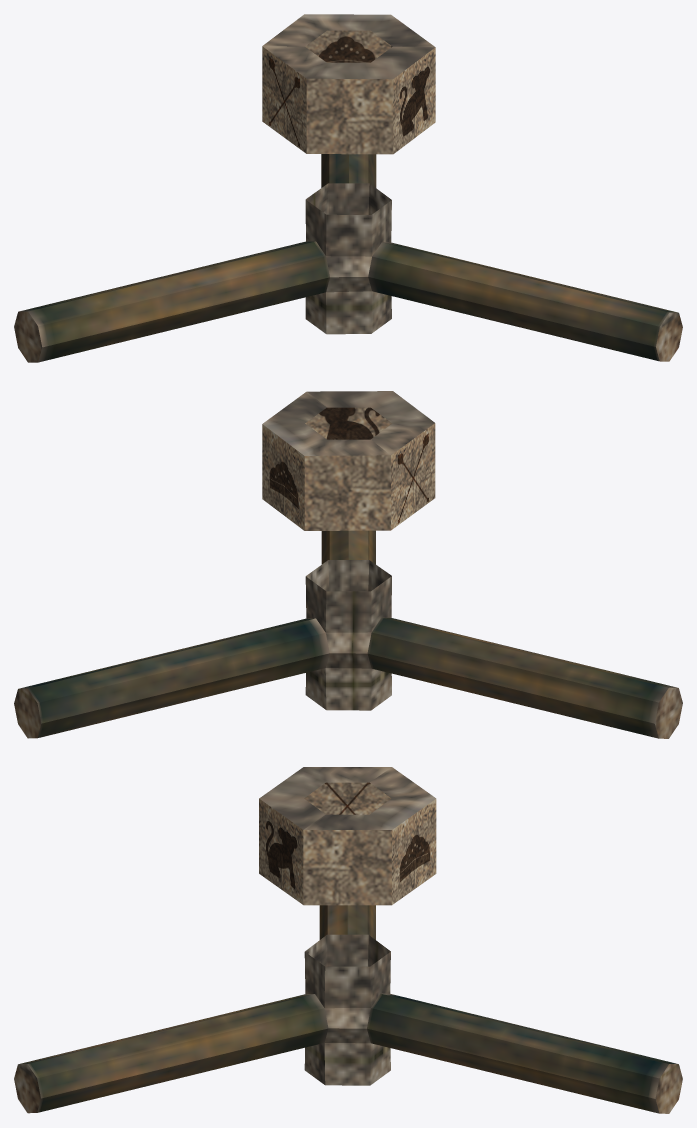
Rendered from f_reel2_part1.fbx.
3 renders of one model, top to bottom at view 1: azimuth 30°, elevation 25°; view 2: azimuth 150°, elevation 25°; view 3: azimuth 270°, elevation 25°, orthographic.
Parts seen in each view (by area): view 1: Cylinder.002; view 2: Cylinder.002; view 3: Cylinder.002.
Part boxes in pixels (bbox=[...]): Cylinder.002: bbox=[14, 14, 682, 362]; Cylinder.002: bbox=[14, 391, 682, 738]; Cylinder.002: bbox=[14, 767, 682, 1113].
Size of the model in its own units: 554 by 286 by 639.
